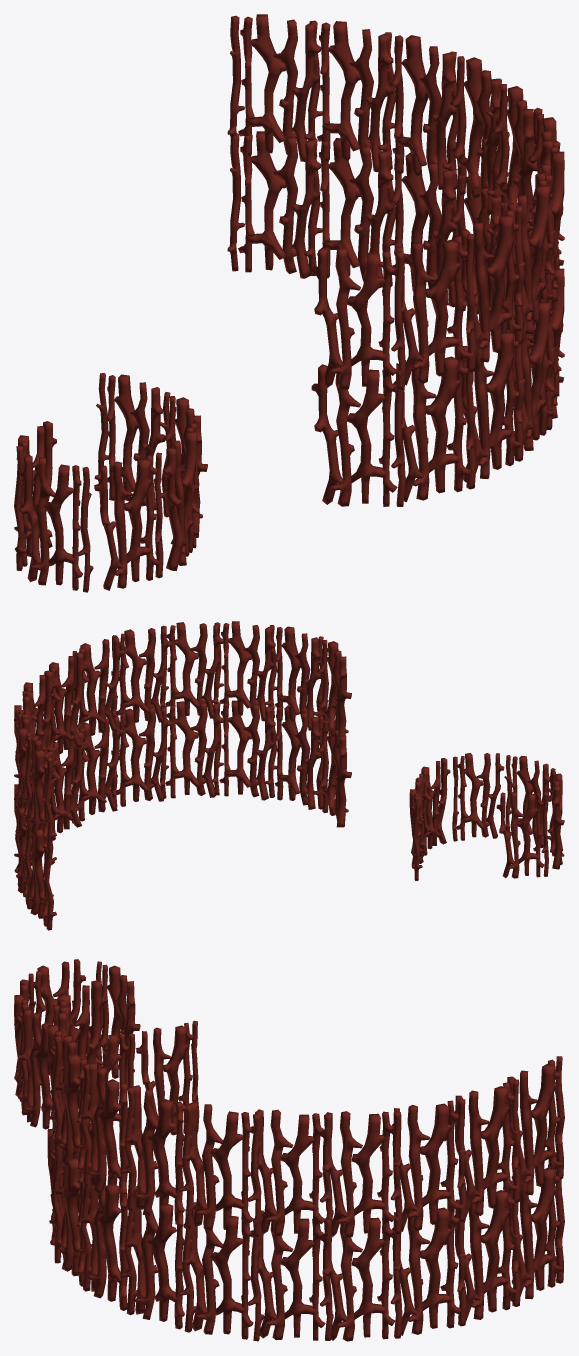
The model's file is SticksLvl1.fbx.
3 renders of one model, top to bottom at view 1: azimuth 30°, elevation 25°; view 2: azimuth 150°, elevation 25°; view 3: azimuth 270°, elevation 25°, orthographic. The views are drawn at different scales.
Parts seen in each view (by area): view 1: Stick.Lvl3, Stick.Level1; view 2: Stick.Lvl3, Stick.Level1; view 3: Stick.Lvl3, Stick.Level1.
Part boxes in pixels (box(x1,y1,x2,y2)): Stick.Lvl3: box(227, 14, 564, 506); Stick.Level1: box(14, 373, 207, 592); Stick.Lvl3: box(14, 621, 351, 930); Stick.Level1: box(409, 753, 564, 880); Stick.Lvl3: box(47, 980, 564, 1341); Stick.Level1: box(14, 959, 199, 1144).
Size of the model in its own units: 1626 by 626 by 1381.
